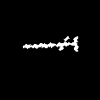double_crochet: (23, 37, 77, 50)
